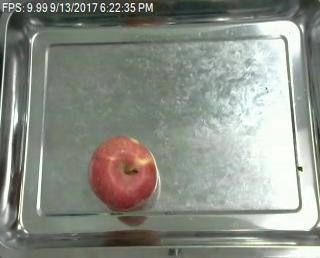apple: (87, 135, 158, 212)
